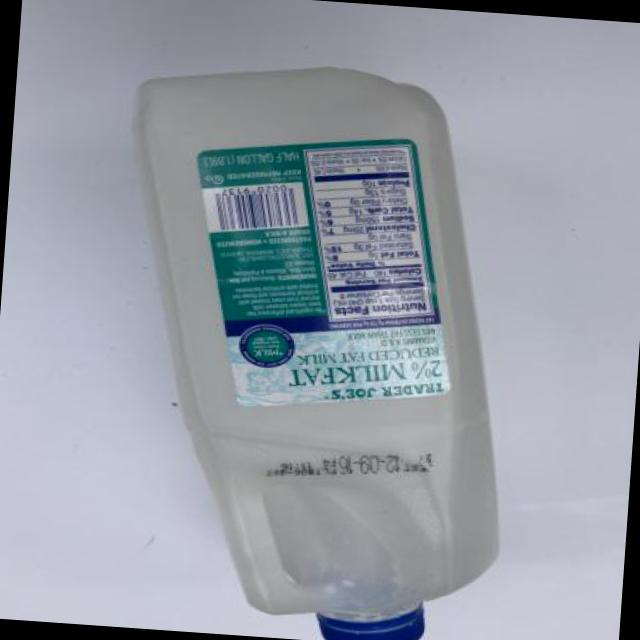plastic: (158, 63, 526, 640)
